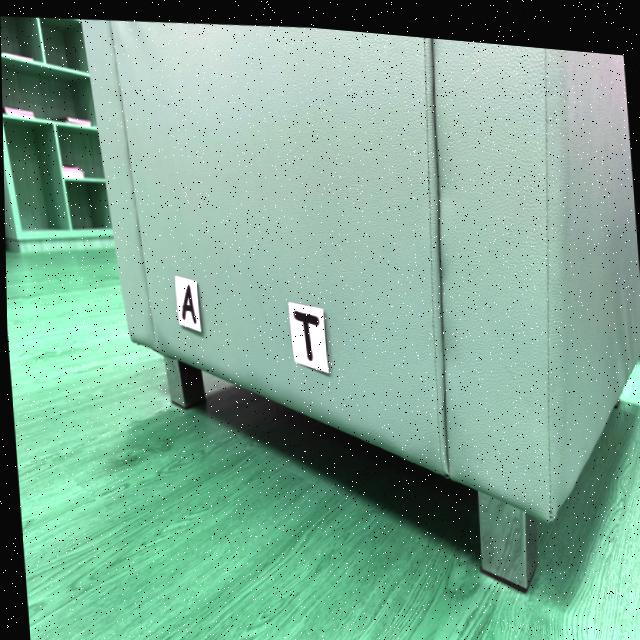A: (180, 282, 196, 320)
T: (292, 305, 318, 355)
